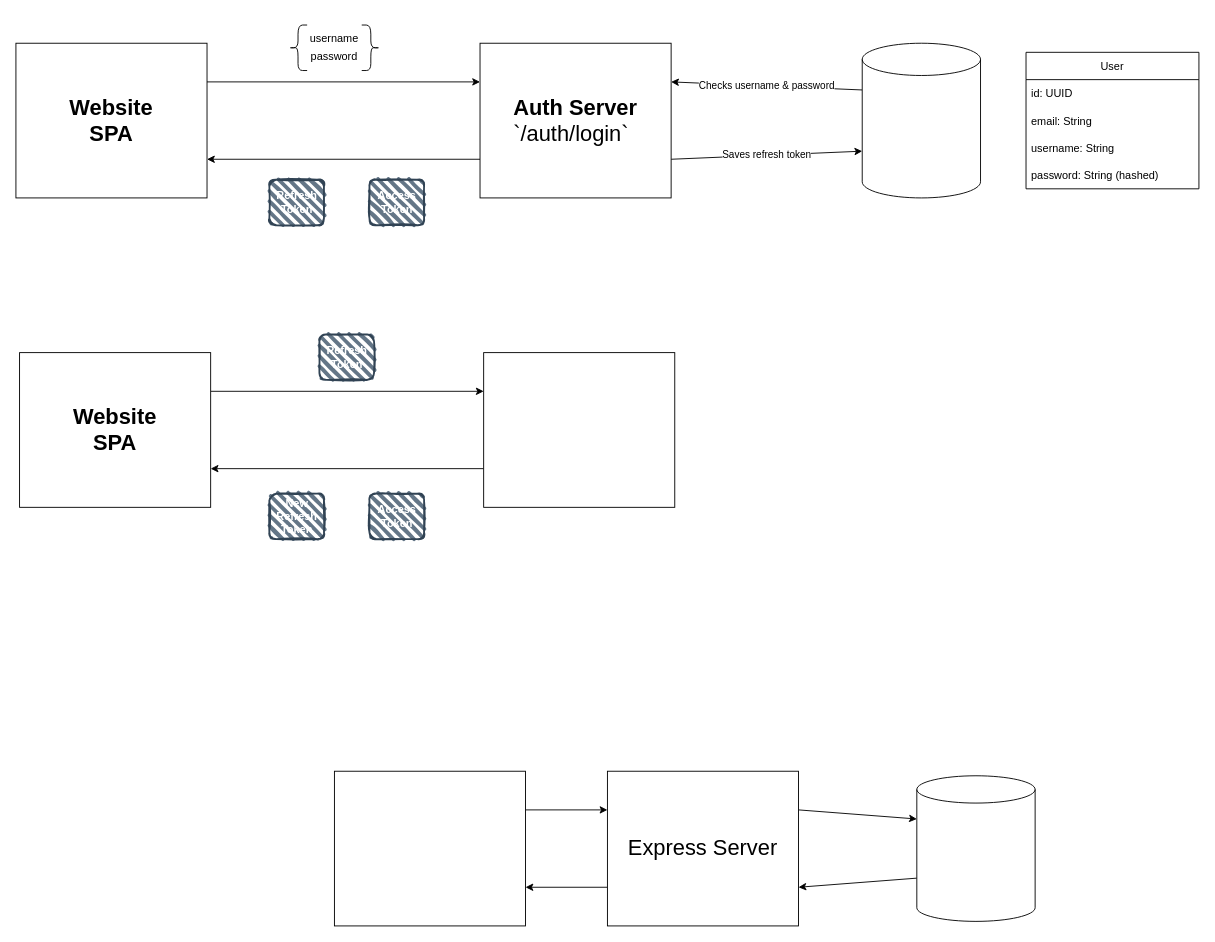
This 1215x942 diagram has some shape labels left out. Each missing label, with the centre of its shape:
Atlas MongoDB: point (975, 848)
Auth Server `/auth/refresh`: point (579, 429)
Frontend React App: point (430, 848)
Users Collection: point (921, 120)
